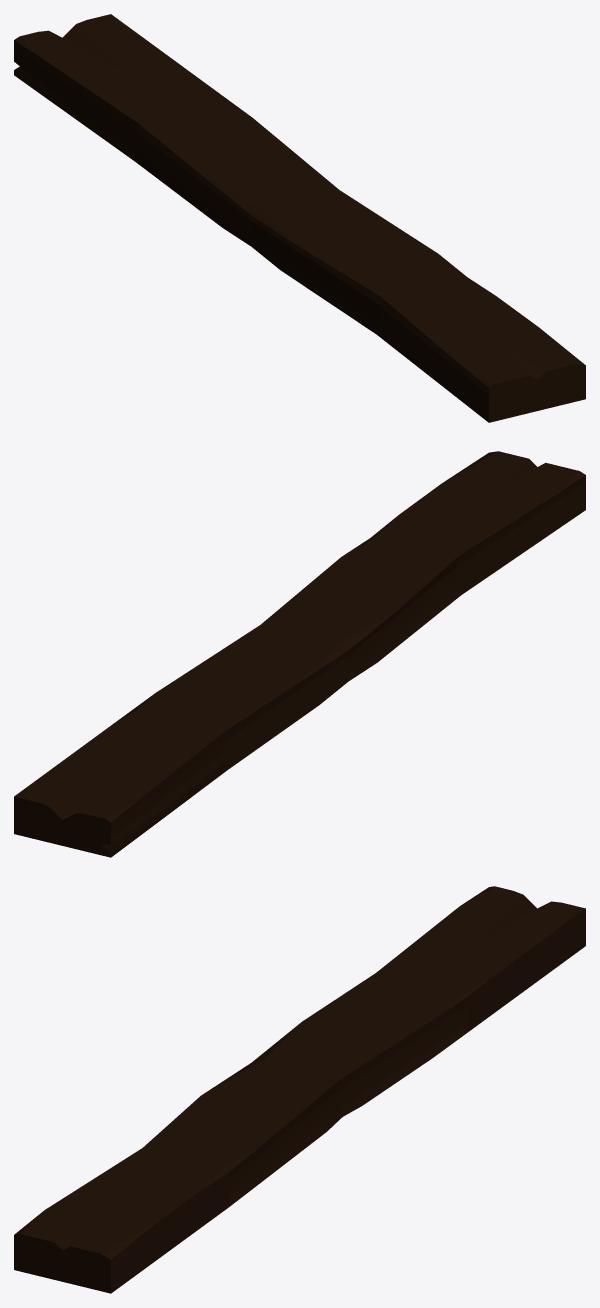
The model's file is wooden Plank.fbx.
The picture shows the model from 3 angles, top to bottom: view 1: azimuth 30°, elevation 25°; view 2: azimuth 150°, elevation 25°; view 3: azimuth 330°, elevation 25°; orthographic projection.
Parts seen in each view (by area): view 1: Wooden_Plank; view 2: Wooden_Plank; view 3: Wooden_Plank.
Boxes of the visible parts, x1=… form: Wooden_Plank: x1=14, y1=14, x2=585, y2=422; Wooden_Plank: x1=14, y1=451, x2=585, y2=857; Wooden_Plank: x1=14, y1=886, x2=585, y2=1293.
Size of the model in its own units: 29.42 by 10.87 by 249.
